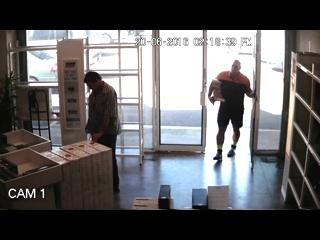Normal: (208, 59, 256, 161), (84, 71, 122, 193)
